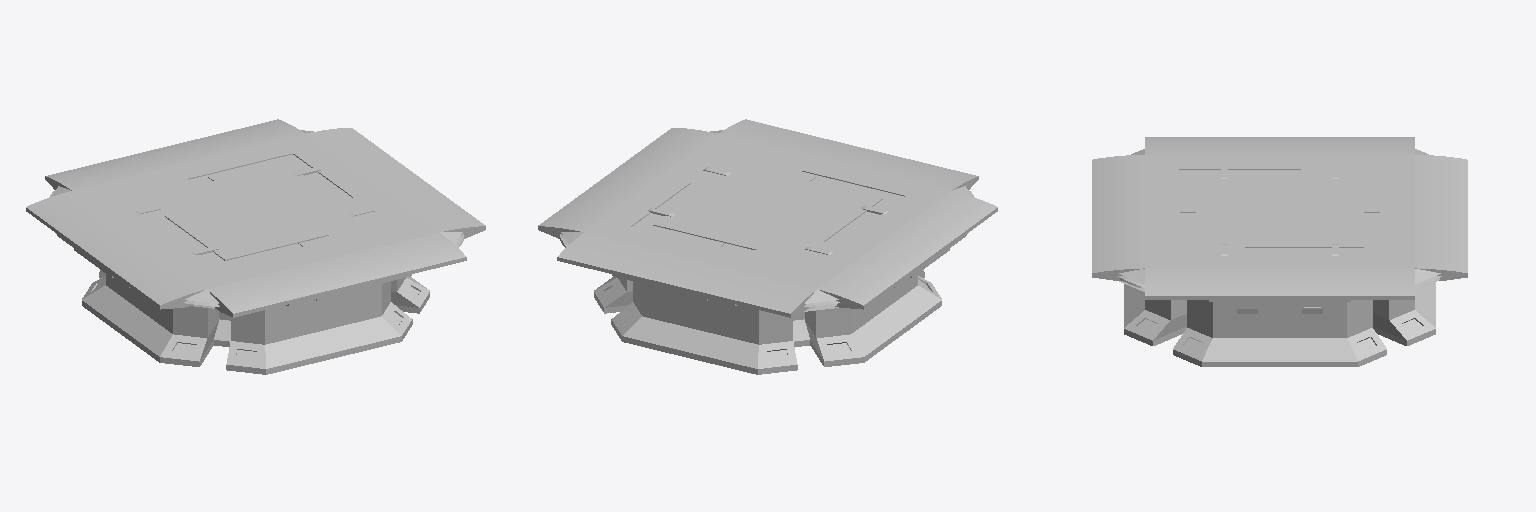
Rendered from Heli pad.obj.
3 renders of one model, left to right at view 1: azimuth 30°, elevation 25°; view 2: azimuth 150°, elevation 25°; view 3: azimuth 270°, elevation 25°, orthographic.
Parts seen in each view (by area): view 1: Heli_pad_3d-model; view 2: Heli_pad_3d-model; view 3: Heli_pad_3d-model.
Boxes of the visible parts, x1,y1,x2,y2 form: Heli_pad_3d-model: [26, 119, 485, 374]; Heli_pad_3d-model: [538, 119, 997, 374]; Heli_pad_3d-model: [1092, 137, 1467, 366].
Bounding box in the file's own units: 0.3936 × 0.1045 × 0.3936.